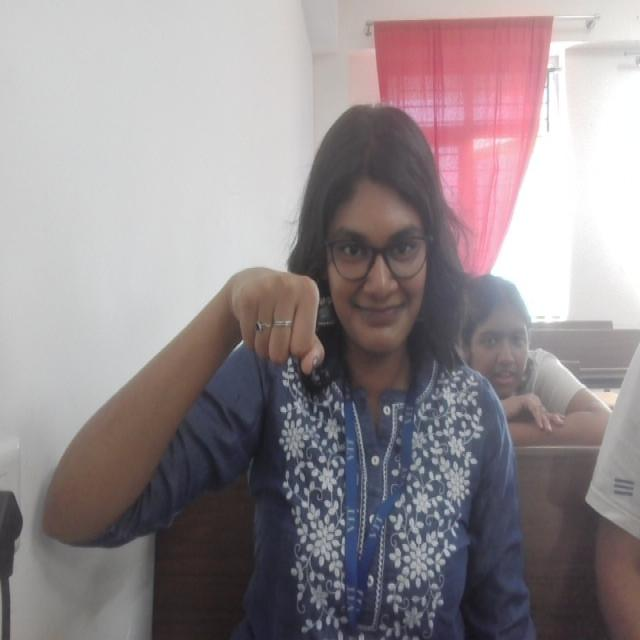yes: (228, 263, 330, 377)
